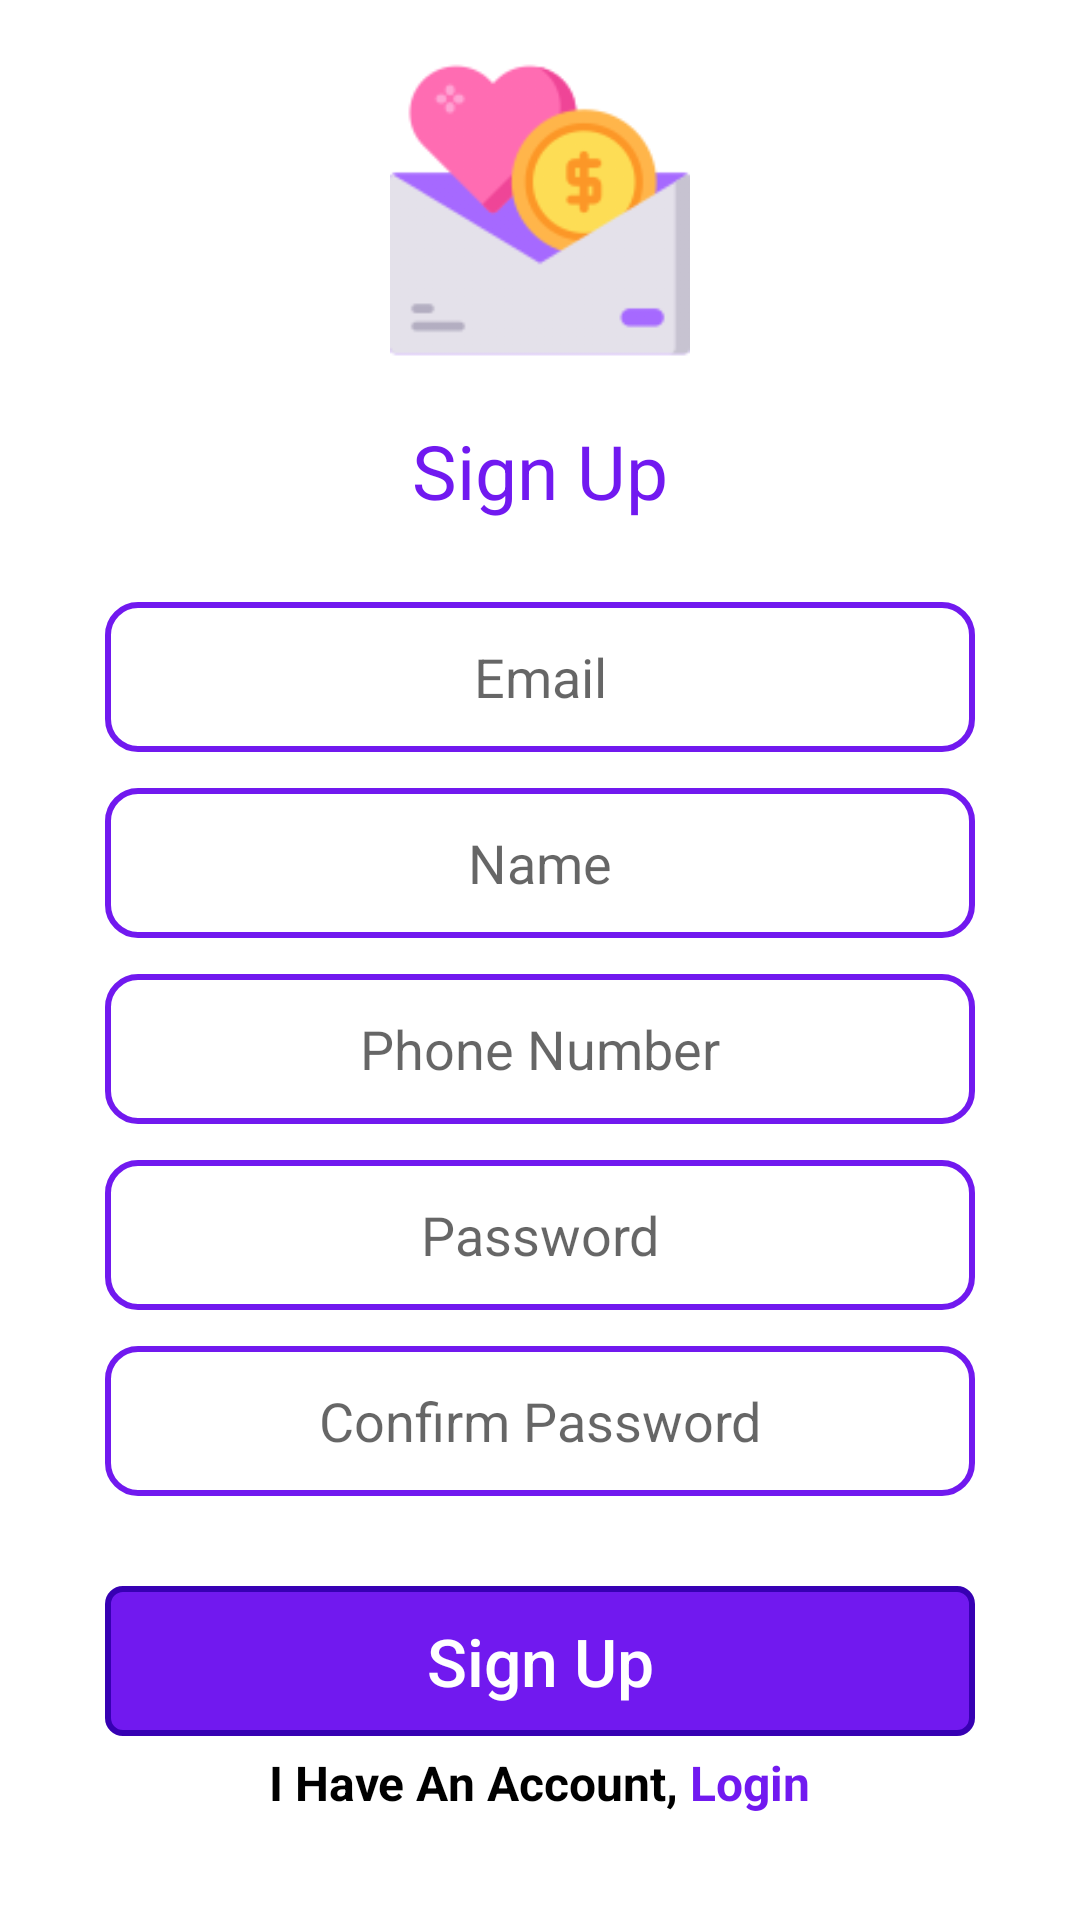

Icons on this 1080px x 1920px Android screen, each with the point to tap as [x,y]:
donation: [540,210]
